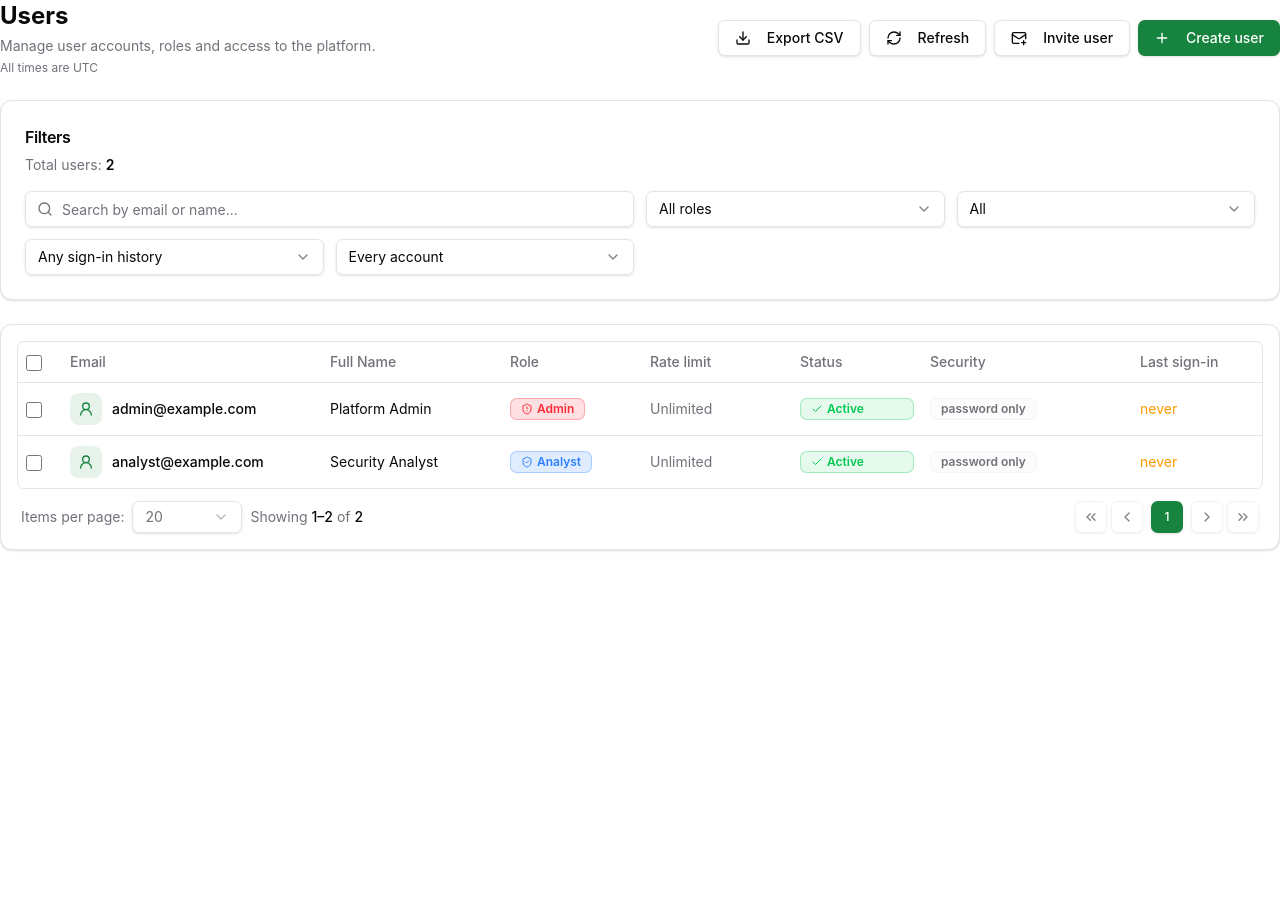
Scenario: UsersPage › invites a user and shows the one-time link exactly once
The width and height of the screenshot is (1280, 900).
expect the text "analyst@example.com" is shown: met, box [112,452,264,472]
Click the button "Invite user": [1062, 38] box [994,20,1130,56]
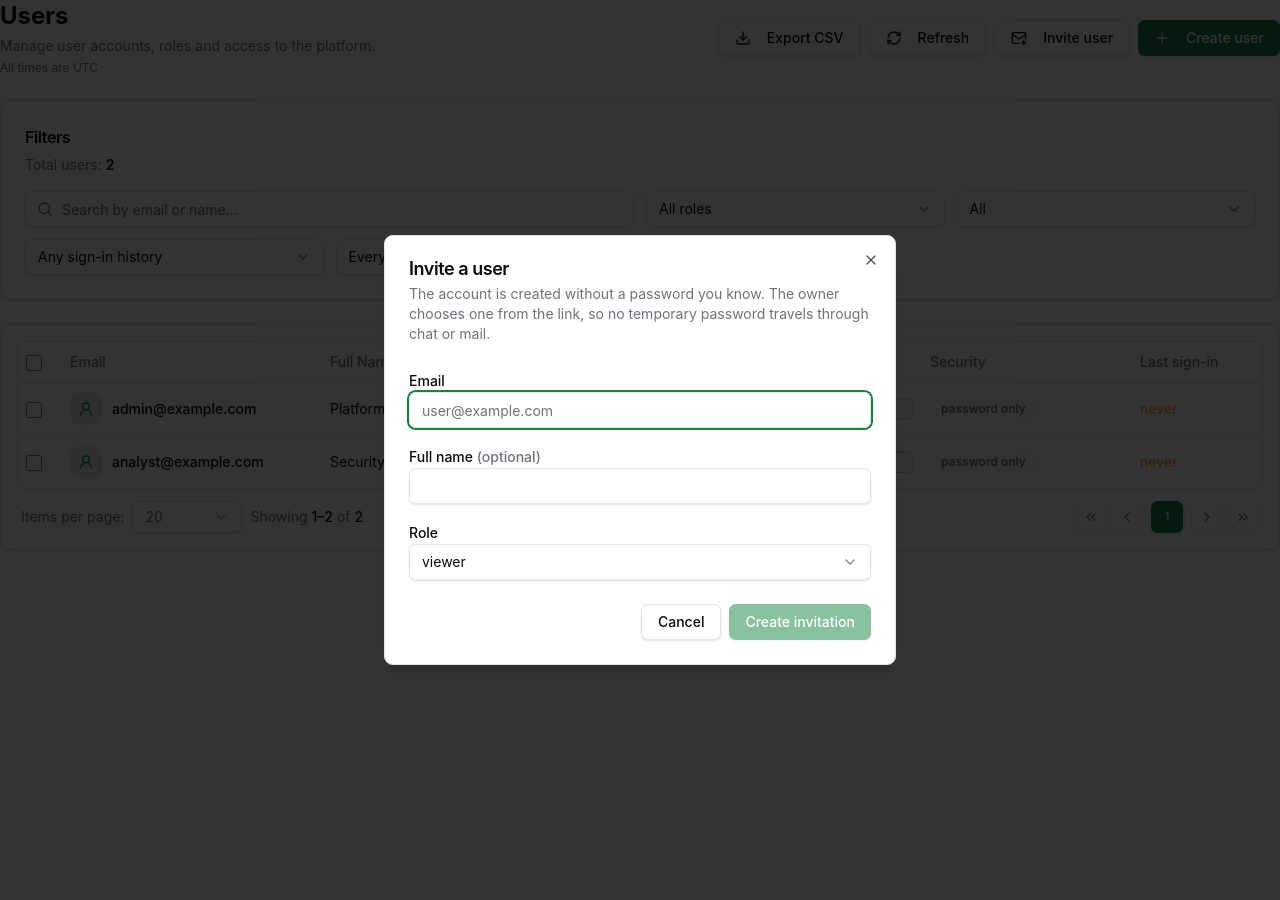
In the field labelled "Email": [640, 410] box [409,392,871,428], type "invited@example.com"
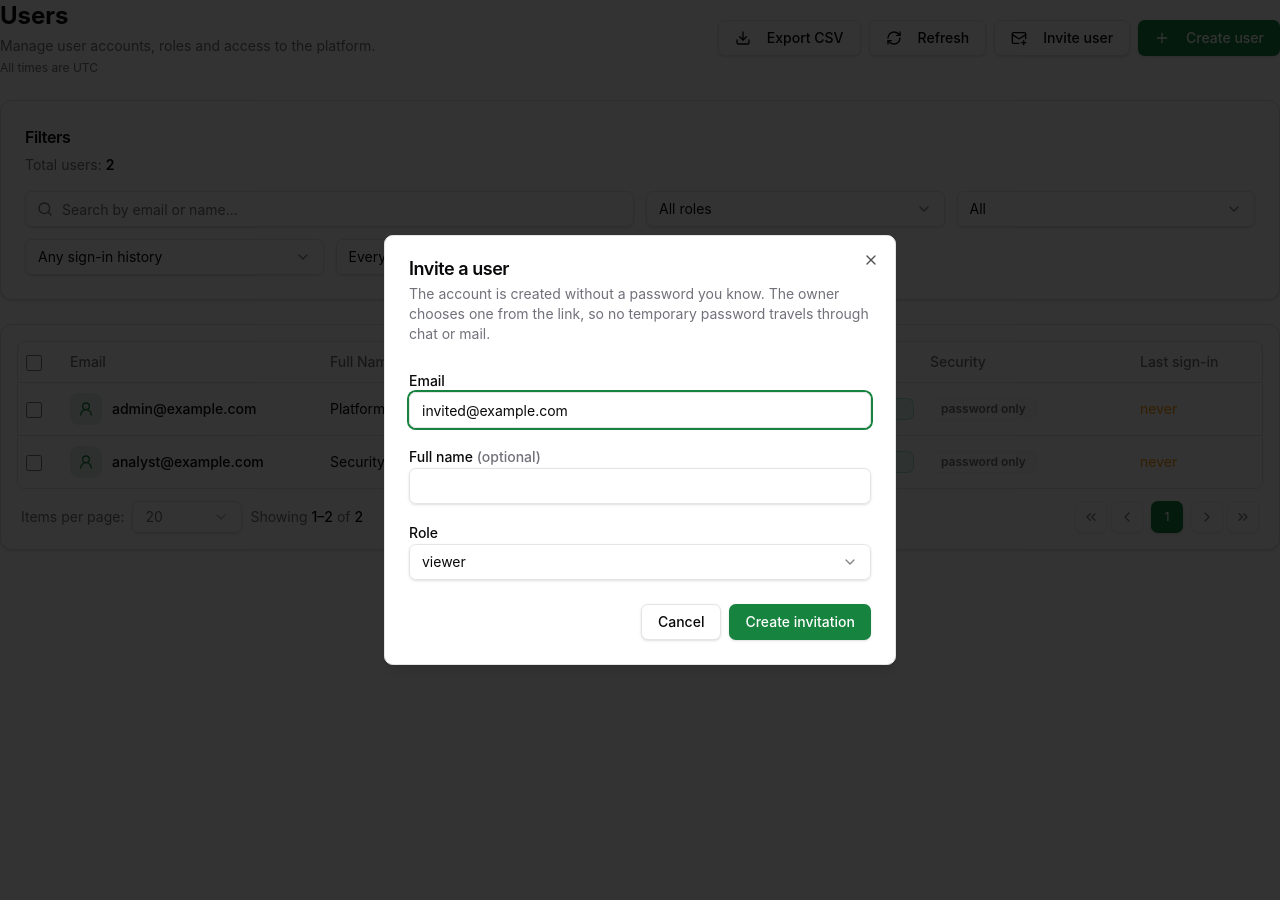
Click the button "Create invitation": [800, 622] box [729,604,871,640]
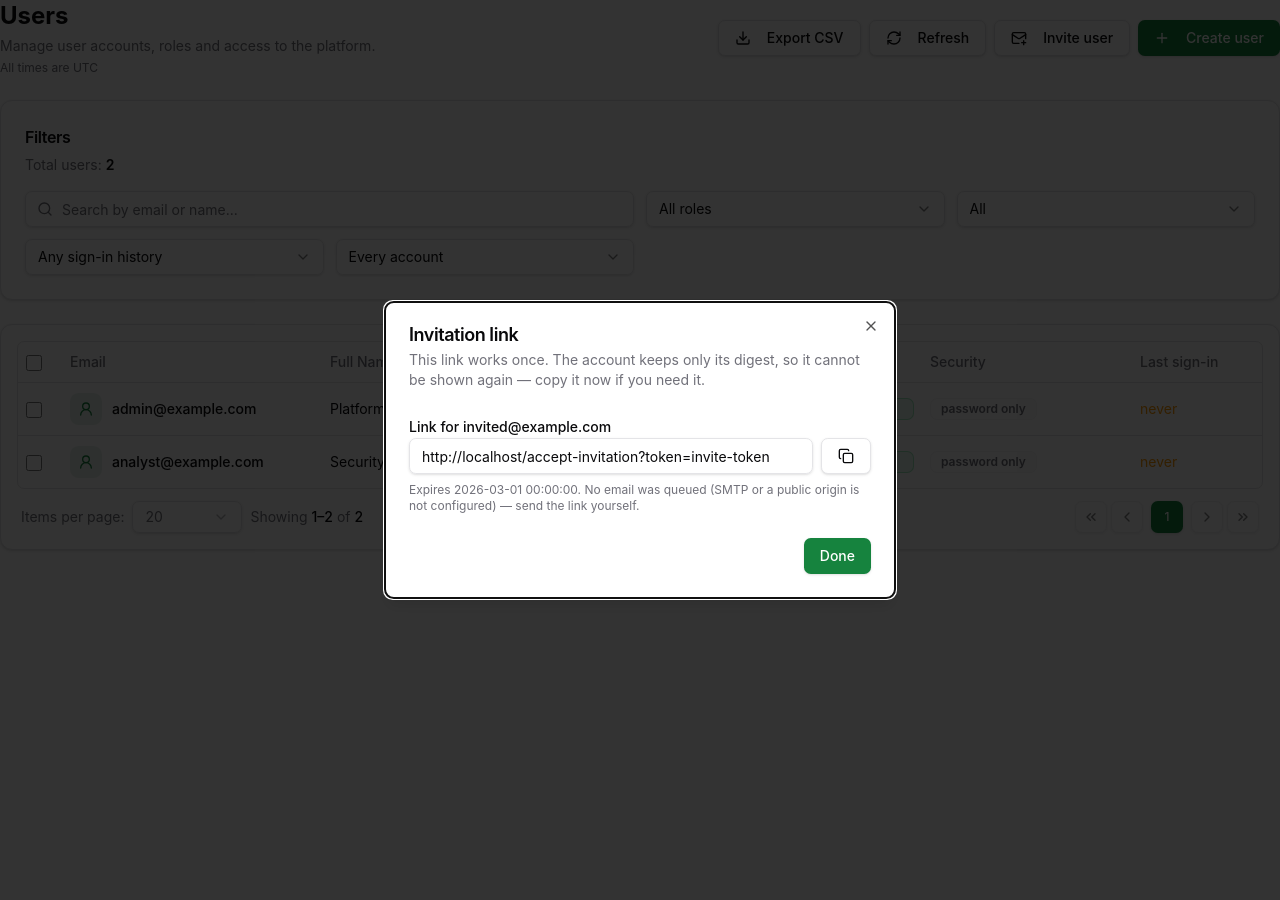
expect the text "No email was queued" is shown: met, box [409,482,859,513]
